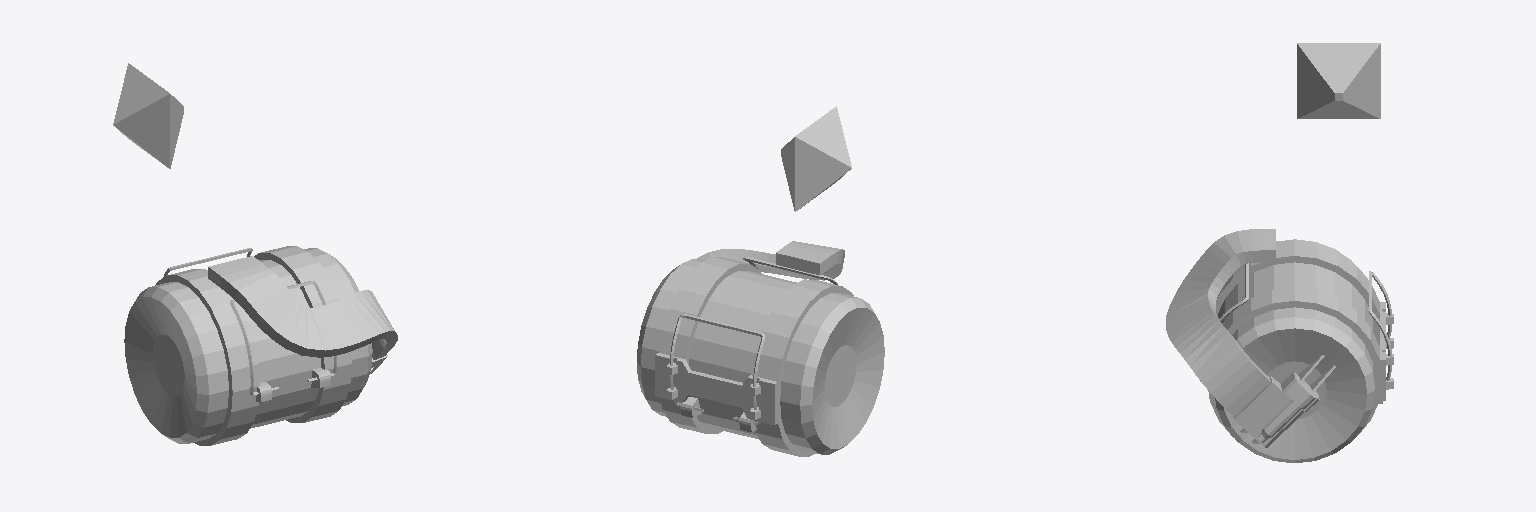
The model's file is evammo.obj.
3 views of the same model, side by side, from view 1: azimuth 30°, elevation 25°; view 2: azimuth 150°, elevation 25°; view 3: azimuth 270°, elevation 25° (orthographic).
Visible parts, largest first — view 1: ##MinigunAmmo:0, Minigun:0; view 2: ##MinigunAmmo:0, Minigun:0; view 3: ##MinigunAmmo:0, Minigun:0.
Boxes of the visible parts, x1=… form: ##MinigunAmmo:0: x1=124, y1=246, x2=397, y2=445; Minigun:0: x1=113, y1=63, x2=183, y2=168; ##MinigunAmmo:0: x1=637, y1=241, x2=884, y2=456; Minigun:0: x1=781, y1=106, x2=851, y2=211; ##MinigunAmmo:0: x1=1166, y1=229, x2=1393, y2=462; Minigun:0: x1=1297, y1=43, x2=1380, y2=118.
Size of the model in its own units: 31.24 by 46.03 by 27.24.